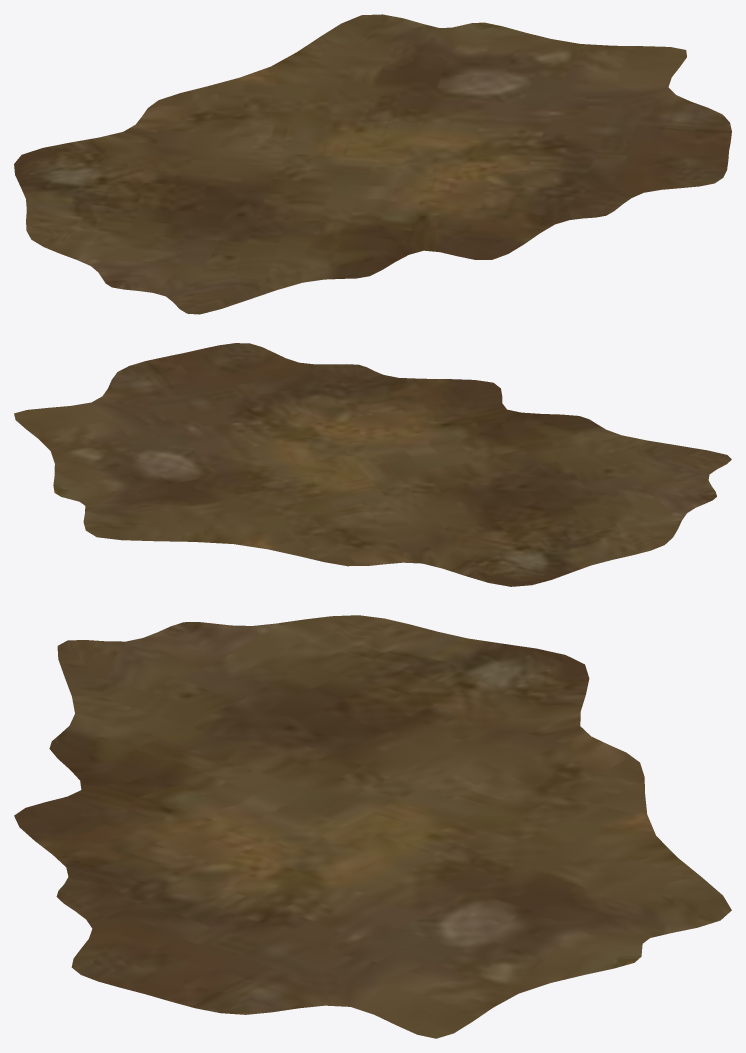
The model's file is dirtTest.fbx.
3 views of the same model, one above another, from view 1: azimuth 30°, elevation 25°; view 2: azimuth 150°, elevation 25°; view 3: azimuth 270°, elevation 25° (orthographic). The views are drawn at different scales.
Visible parts, largest first — view 1: dirtTex; view 2: dirtTex; view 3: dirtTex.
Boxes of the visible parts, bbox=[...] form: dirtTex: bbox=[14, 14, 731, 314]; dirtTex: bbox=[14, 343, 731, 586]; dirtTex: bbox=[14, 615, 731, 1038].
Bounding box in the file's own units: 227 × 2.65e-05 × 163.
1 material, 1 textured.
